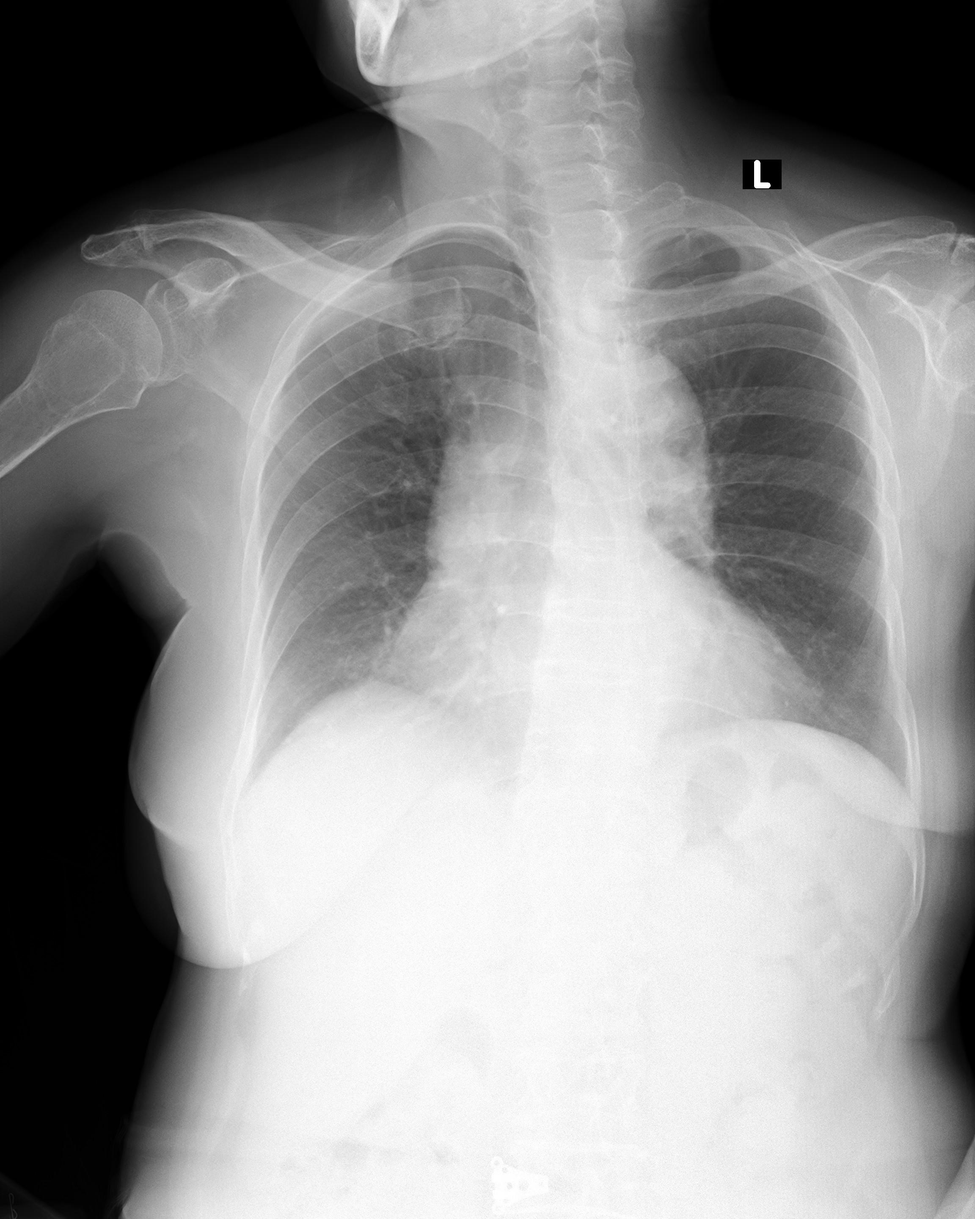Aortic enlargement: (426, 337, 711, 571)
Cardiomegaly: (379, 613, 822, 738)
Pleural thickening: (619, 223, 704, 253)
